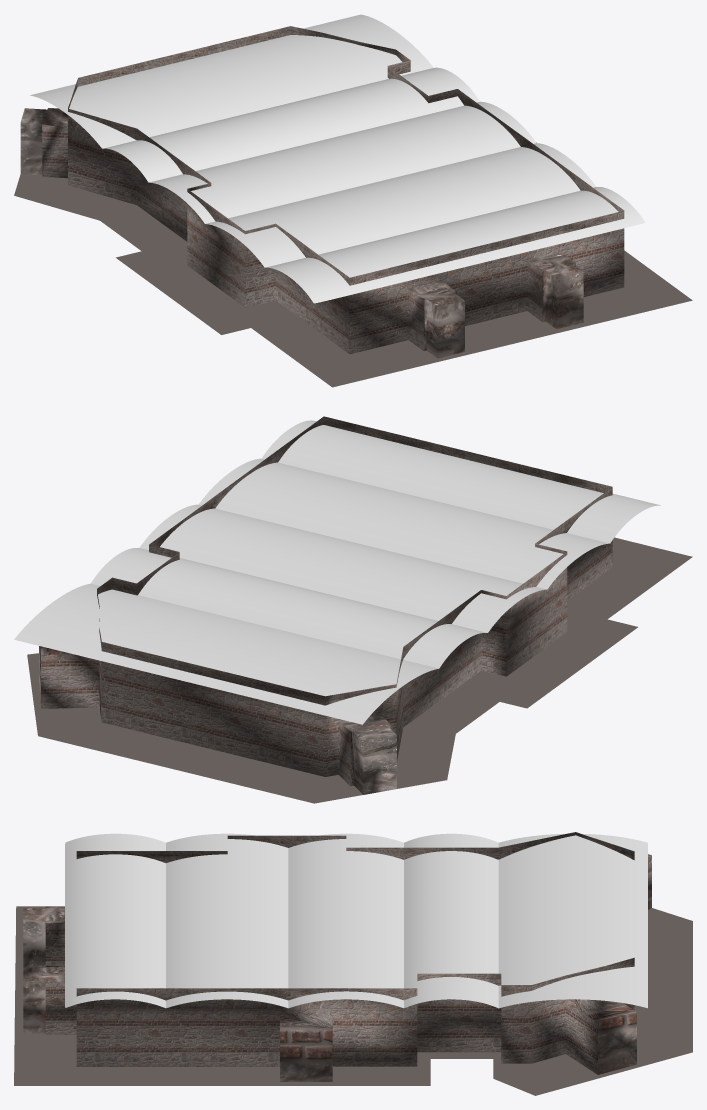
The picture shows the model from 3 angles, top to bottom: view 1: azimuth 30°, elevation 25°; view 2: azimuth 150°, elevation 25°; view 3: azimuth 270°, elevation 25°; orthographic projection. The views are drawn at different scales.
Visible parts, largest first — view 1: Klenby-strop, Jednostěna.007, Podlaha-místnosti č.001; view 2: Klenby-strop, Jednostěna.007, Podlaha-místnosti č.001; view 3: Klenby-strop, Jednostěna.007, Podlaha-místnosti č.001.
Boxes of the visible parts, x1=… form: Klenby-strop: x1=30, y1=14, x2=645, y2=303; Jednostěna.007: x1=20, y1=26, x2=624, y2=358; Podlaha-místnosti č.001: x1=14, y1=174, x2=692, y2=387; Klenby-strop: x1=14, y1=420, x2=660, y2=724; Jednostěna.007: x1=39, y1=416, x2=612, y2=794; Podlaha-místnosti č.001: x1=27, y1=537, x2=692, y2=803; Klenby-strop: x1=65, y1=833, x2=647, y2=1008; Jednostěna.007: x1=23, y1=832, x2=651, y2=1081; Podlaha-místnosti č.001: x1=14, y1=906, x2=692, y2=1095.
Bounding box in the file's own units: 1725 × 300 × 2348.
